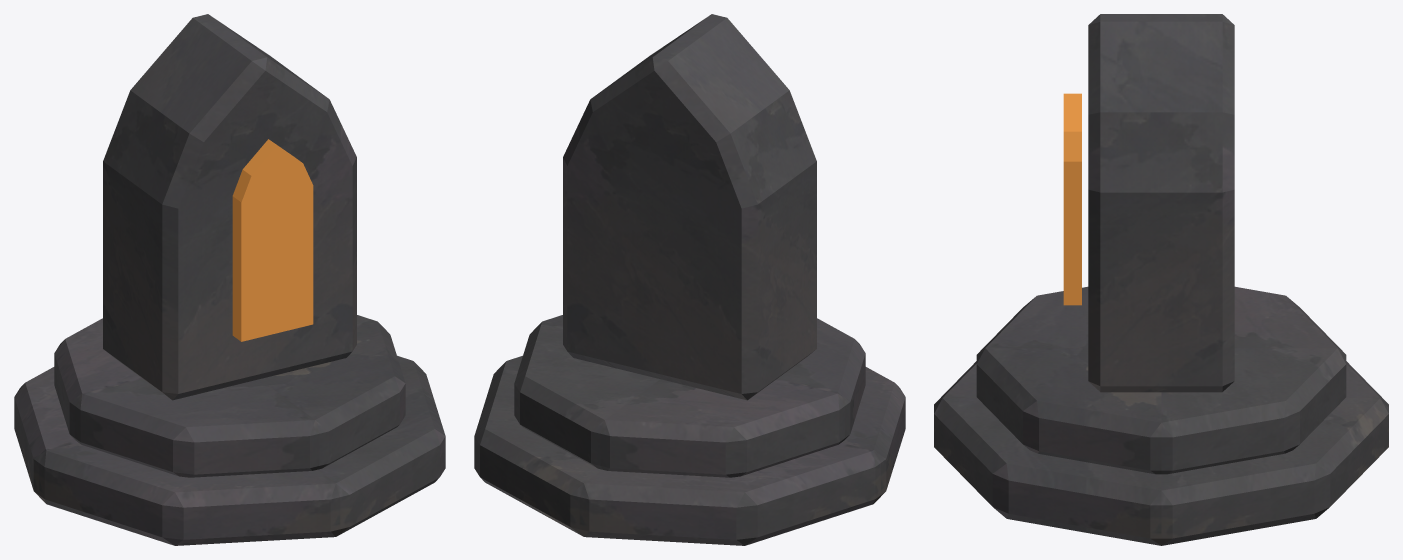
Rendered from waystone.glb.
3 views of the same model, side by side, from view 1: azimuth 30°, elevation 25°; view 2: azimuth 150°, elevation 25°; view 3: azimuth 270°, elevation 25° (orthographic). The views are drawn at different scales.
Visible parts, largest first — view 1: waystone; view 2: waystone; view 3: waystone.
Boxes of the visible parts, left/top/right/bottom form: waystone: left=14, top=14, right=445, bottom=545; waystone: left=474, top=14, right=905, bottom=545; waystone: left=934, top=14, right=1388, bottom=545.
Size of the model in its own units: 0.7447 by 0.7868 by 0.7447.
3 materials, 2 textured.
